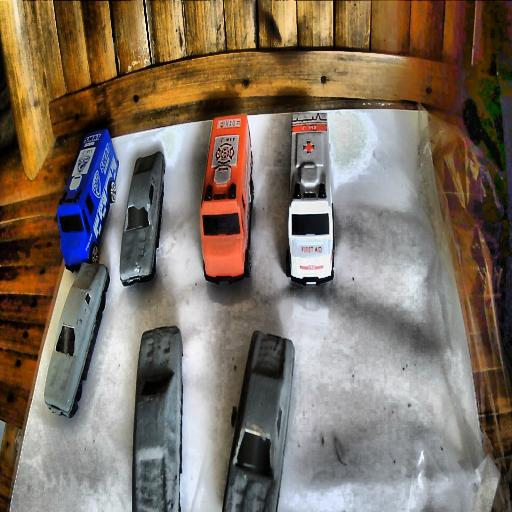ambulance: (286, 113, 334, 287)
fire_truck: (200, 114, 254, 284)
normal_car: (222, 332, 294, 511), (43, 263, 110, 420), (132, 327, 184, 510), (120, 151, 165, 287)
police car: (57, 128, 119, 273)
